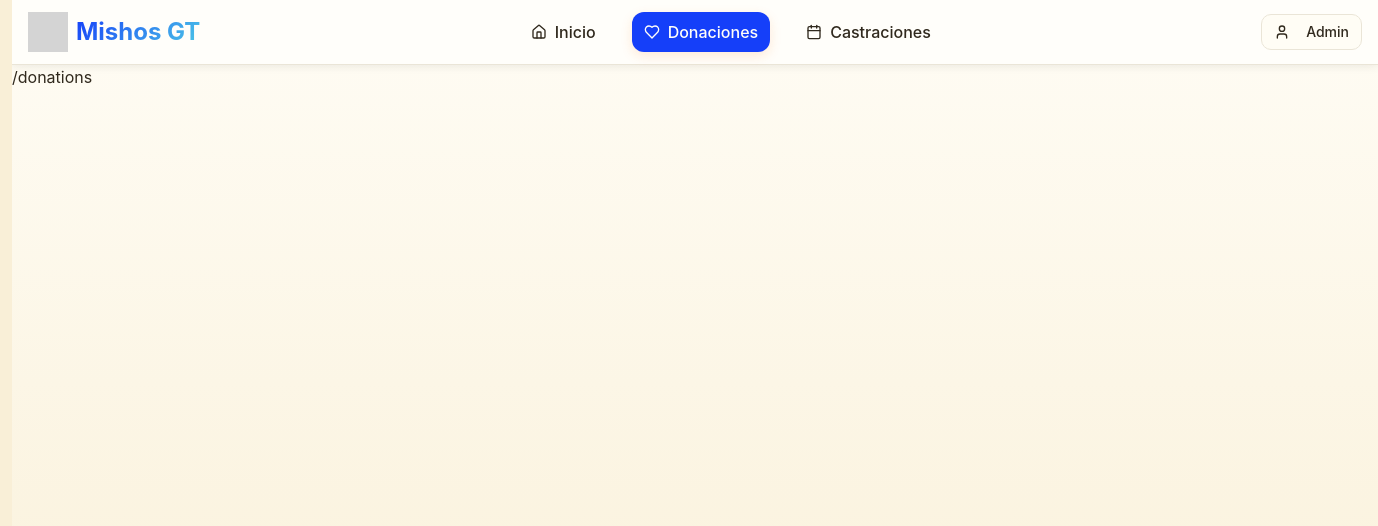
Test: Layout (integration) › navigates between header nav links (e.g., to /castrations)
Click the link "Castraciones" at (869, 32), box [806,22,931,42]
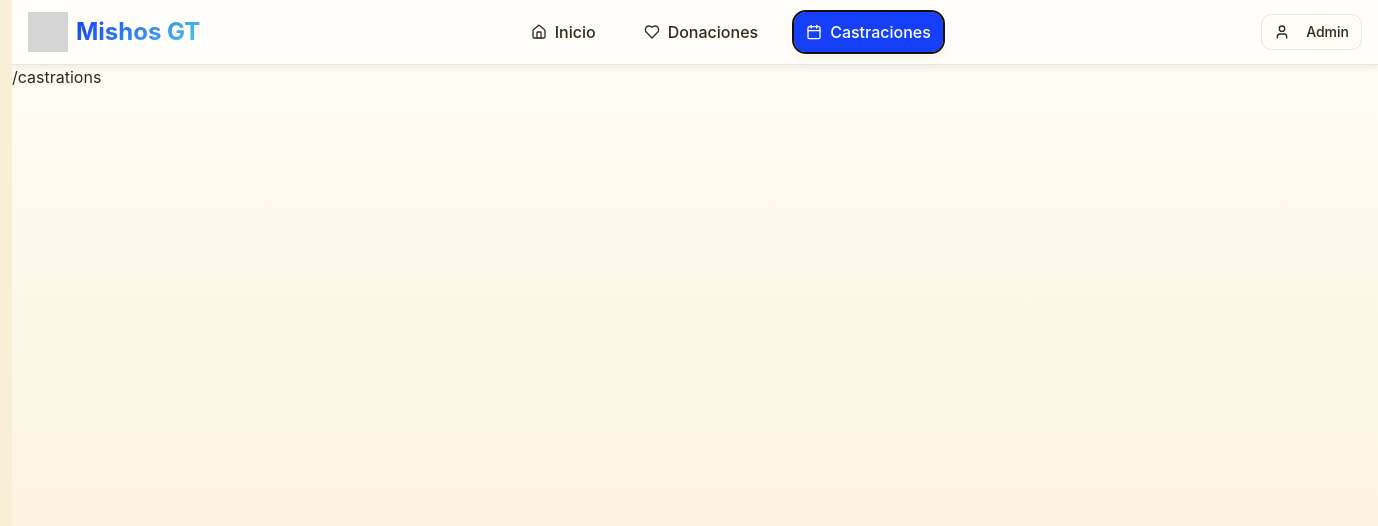
Check: the text with test id "pathname" reads "/castrations", box [12,67,101,87]
